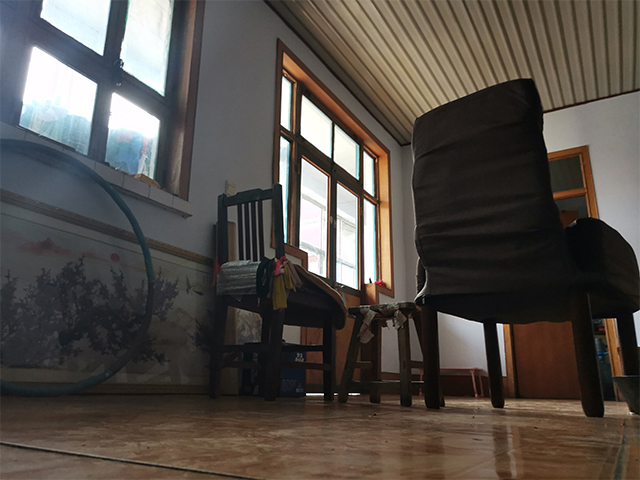stool: (410, 76, 640, 420), (203, 183, 345, 402), (340, 300, 447, 409), (415, 364, 486, 401)
